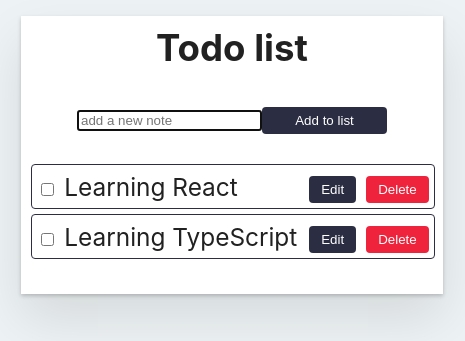
Scenario: Test Todo list with initial data › Edit first note and save it with button
The image size is (465, 341).
Step 1. Click the button "Edit" next to "Learning React" → (333, 190), box [309,176,356,203]
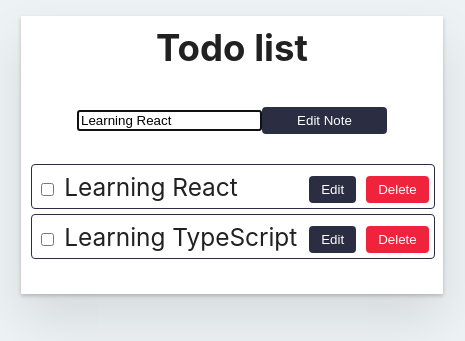
Step 2. Replace the text in the field with placeholder "add a new note" with "Buy egg" → (170, 120), box [77,110,262,131]
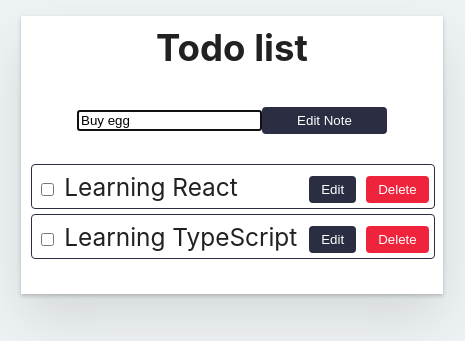
Step 3. Click the button "Edit Note" → (324, 120), box [262,107,387,134]
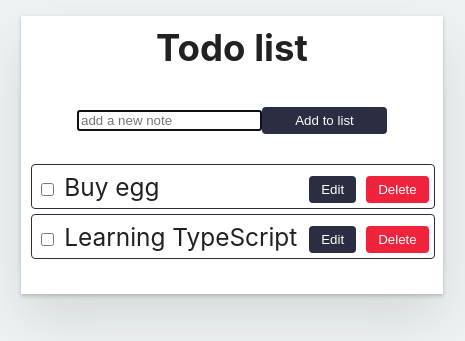
expect the text "Buy egg" is shown: met, box [64,172,159,202]
